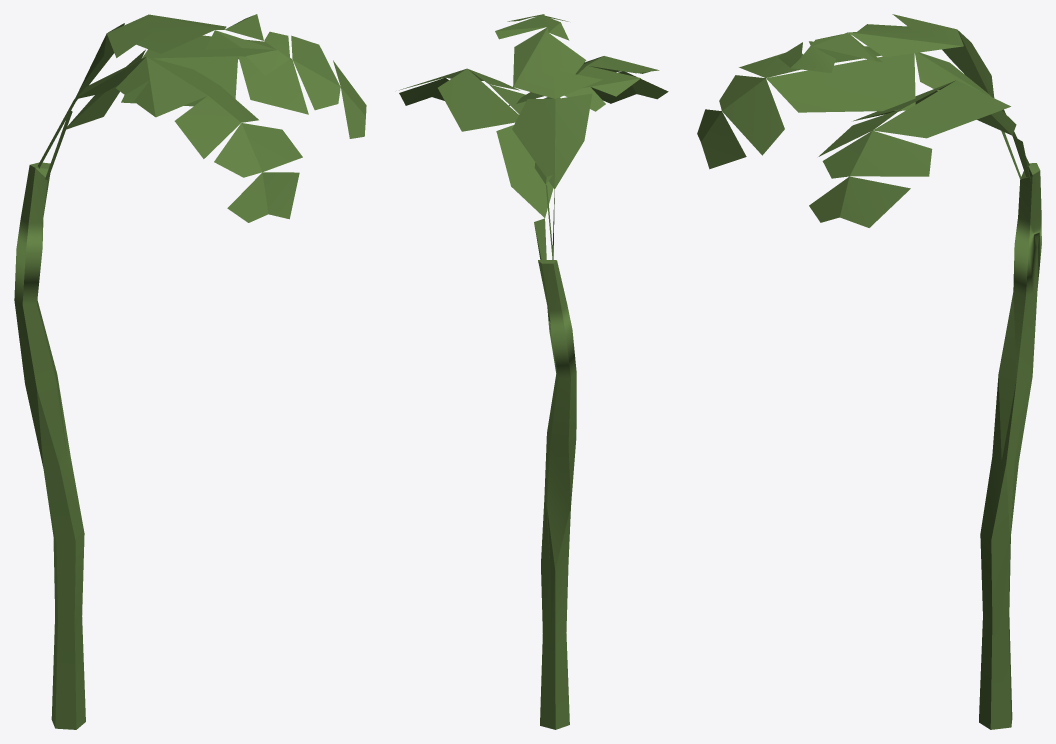
File: Tree_Bamboo_04.fbx
3 renders of one model, left to right at view 1: azimuth 30°, elevation 25°; view 2: azimuth 150°, elevation 25°; view 3: azimuth 270°, elevation 25°, orthographic. The views are drawn at different scales.
Parts seen in each view (by area): view 1: Tree_Bamboo_04; view 2: Tree_Bamboo_04; view 3: Tree_Bamboo_04.
Boxes of the visible parts, x1,y1,x2,y2 form: Tree_Bamboo_04: (14,14,366,729); Tree_Bamboo_04: (399,14,668,729); Tree_Bamboo_04: (697,14,1041,729).
Bounding box in the file's own units: 72.15 × 185 × 79.14.
